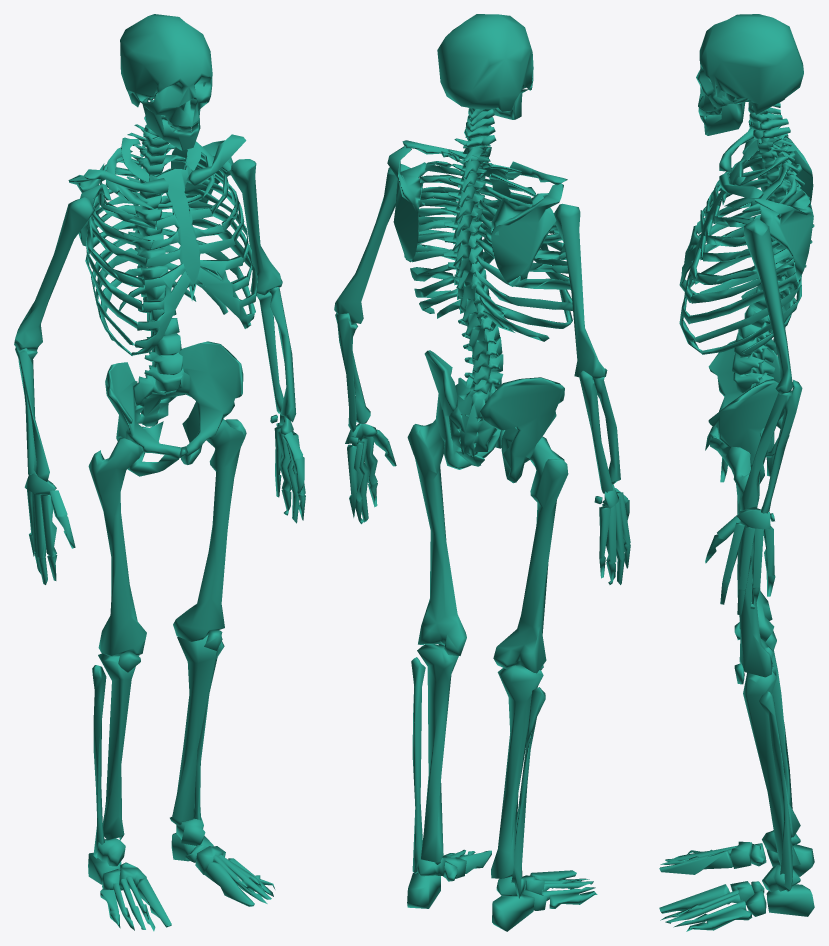
Rendered from skeleton.obj.
The picture shows the model from 3 angles, left to right: view 1: azimuth 30°, elevation 25°; view 2: azimuth 150°, elevation 25°; view 3: azimuth 270°, elevation 25°; orthographic projection.
Parts seen in each view (by area): view 1: skeleton:sub01, skeleton:sub02; view 2: skeleton:sub01, skeleton:sub02; view 3: skeleton:sub01, skeleton:sub02.
Part boxes in pixels (box(x1,y1,x2,y2)): skeleton:sub01: box(14, 14, 305, 931); skeleton:sub02: box(85, 141, 257, 476); skeleton:sub01: box(334, 14, 630, 931); skeleton:sub02: box(404, 158, 572, 483); skeleton:sub01: box(659, 14, 814, 931); skeleton:sub02: box(688, 139, 802, 483).
Size of the model in its own units: 8.92 by 27.83 by 4.47.
